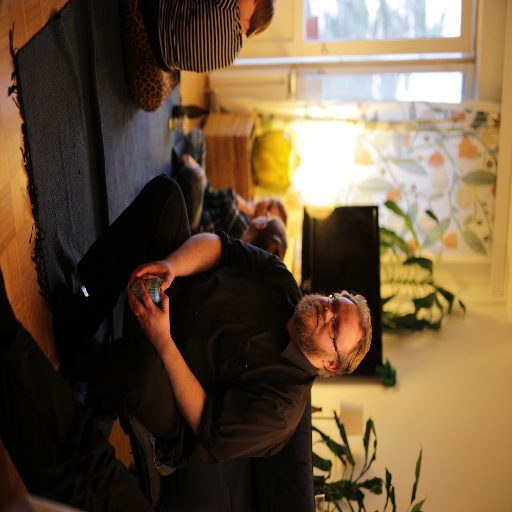hand: (124, 277, 170, 351), (126, 257, 174, 288), (181, 154, 198, 166)
